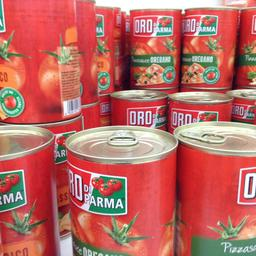tomato_sauce: (64, 122, 178, 255), (176, 119, 255, 254), (180, 6, 238, 88), (126, 6, 182, 87)
